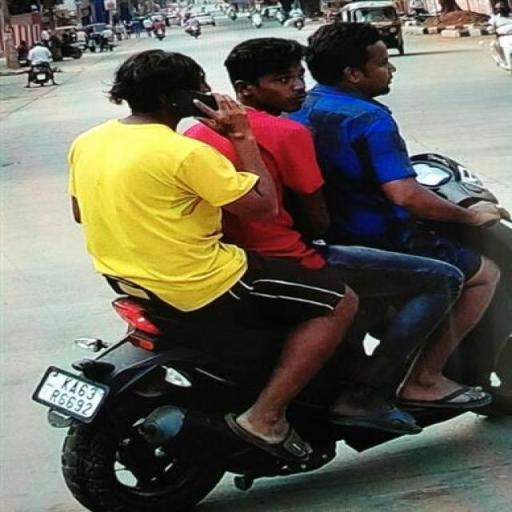tripple riding: (61, 21, 512, 325)
